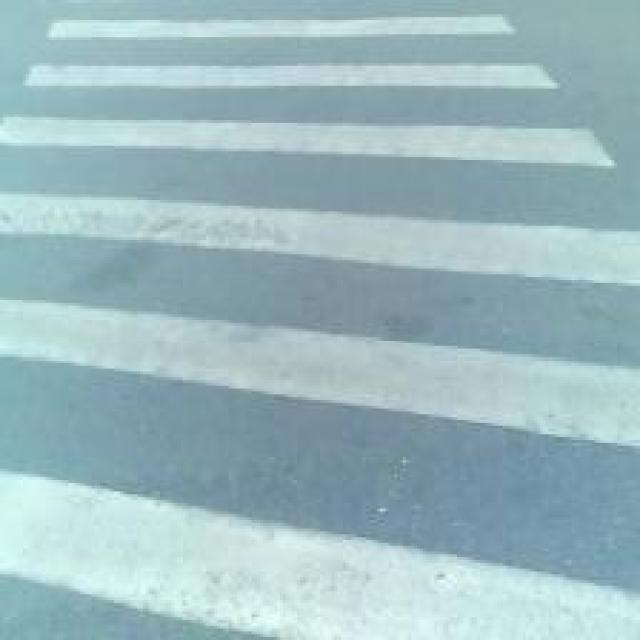walk-crossing: (54, 10, 529, 619)
